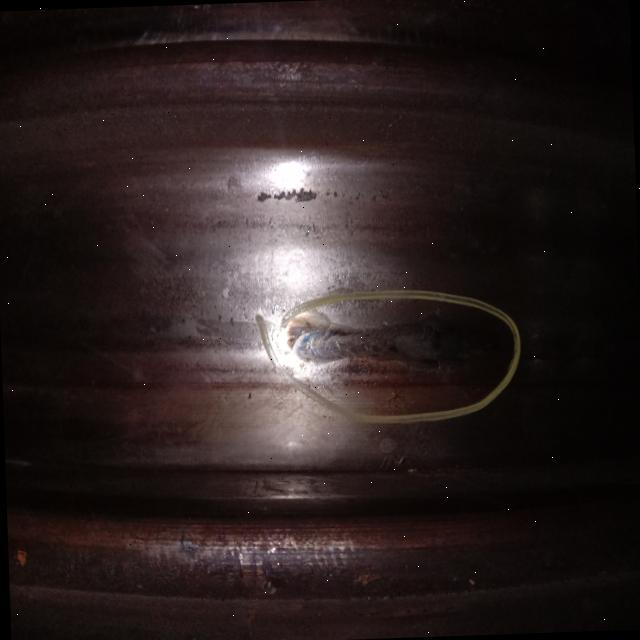flat: (297, 313, 470, 387)
